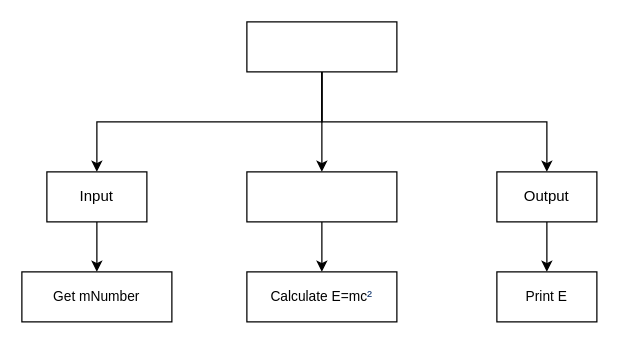
Some shapes in this 619 by 344 pixel diagram are drawn without their labels. The shapes that lost their labels are listed below. From the top down, each one's centre as x and y in pixels, then its label:
At (321,46): "Unit1-02".
At (321,196): "Progress".
